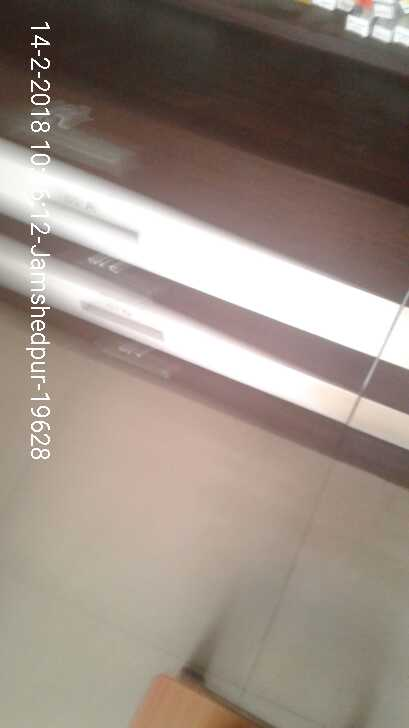reject: (99, 167, 248, 230)
